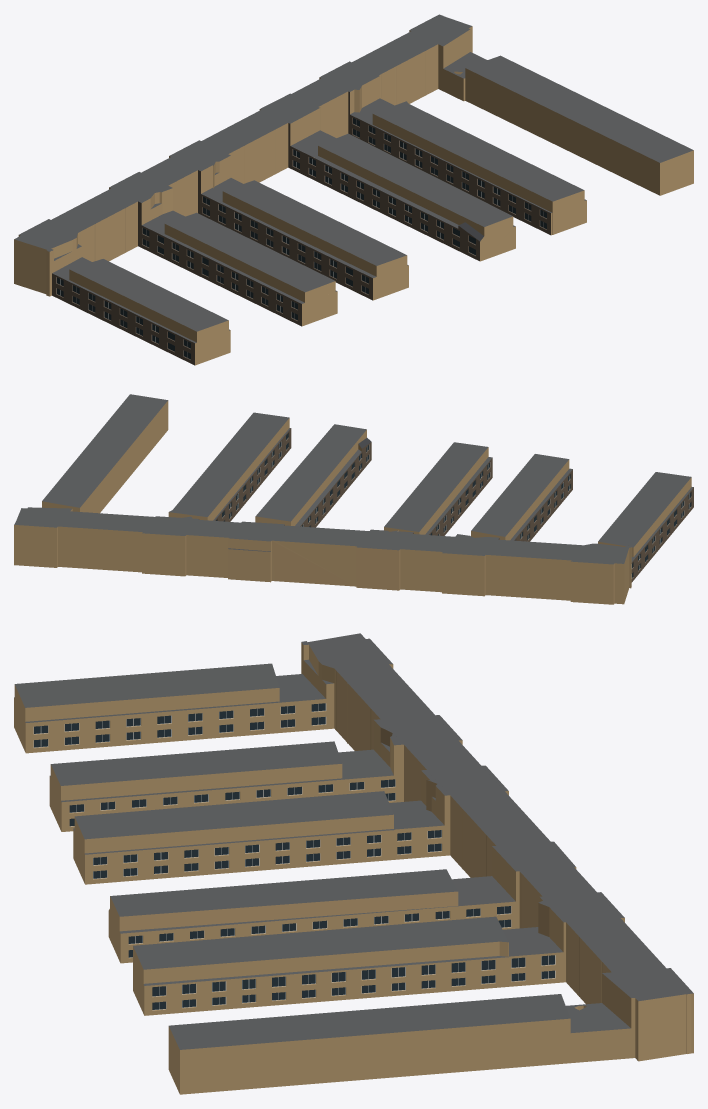
The model's file is recipe-large-buitenzagerij-45-100112.glb.
3 renders of one model, top to bottom at view 1: azimuth 30°, elevation 25°; view 2: azimuth 150°, elevation 25°; view 3: azimuth 270°, elevation 25°, orthographic. The views are drawn at different scales.
Visible parts, largest first — view 1: buitenzagerij-45-100112; view 2: buitenzagerij-45-100112; view 3: buitenzagerij-45-100112.
Boxes of the visible parts, x1=… form: buitenzagerij-45-100112: x1=14, y1=14, x2=693, y2=365; buitenzagerij-45-100112: x1=14, y1=394, x2=693, y2=604; buitenzagerij-45-100112: x1=14, y1=633, x2=693, y2=1094.
Size of the model in its own units: 165 by 11.55 by 118.
